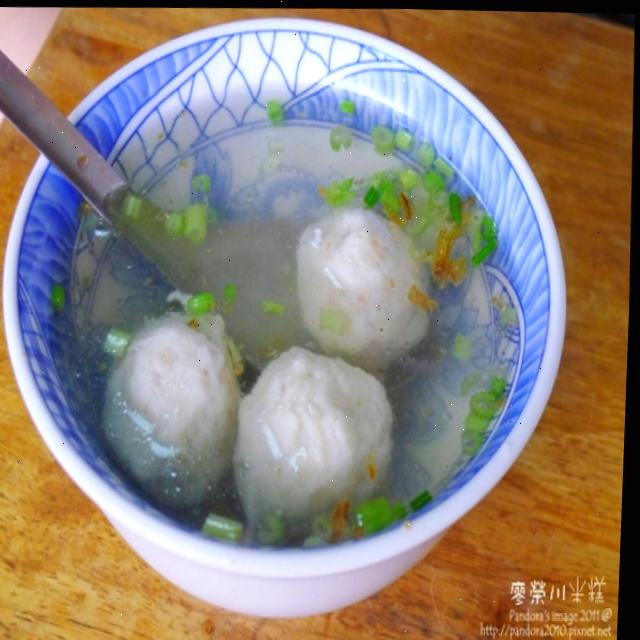熟制海鲜: (4, 20, 578, 592)
